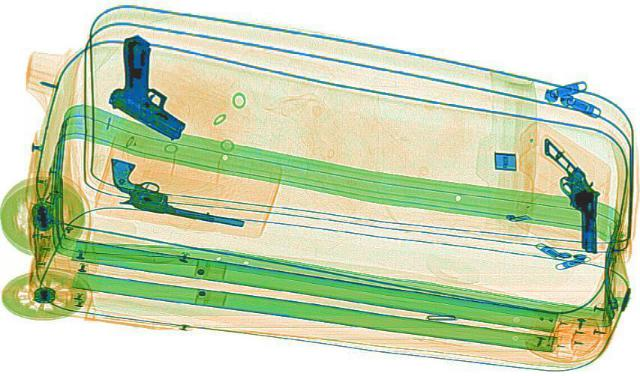Gun: (83, 154, 270, 228), (92, 33, 188, 142), (536, 131, 620, 253)
